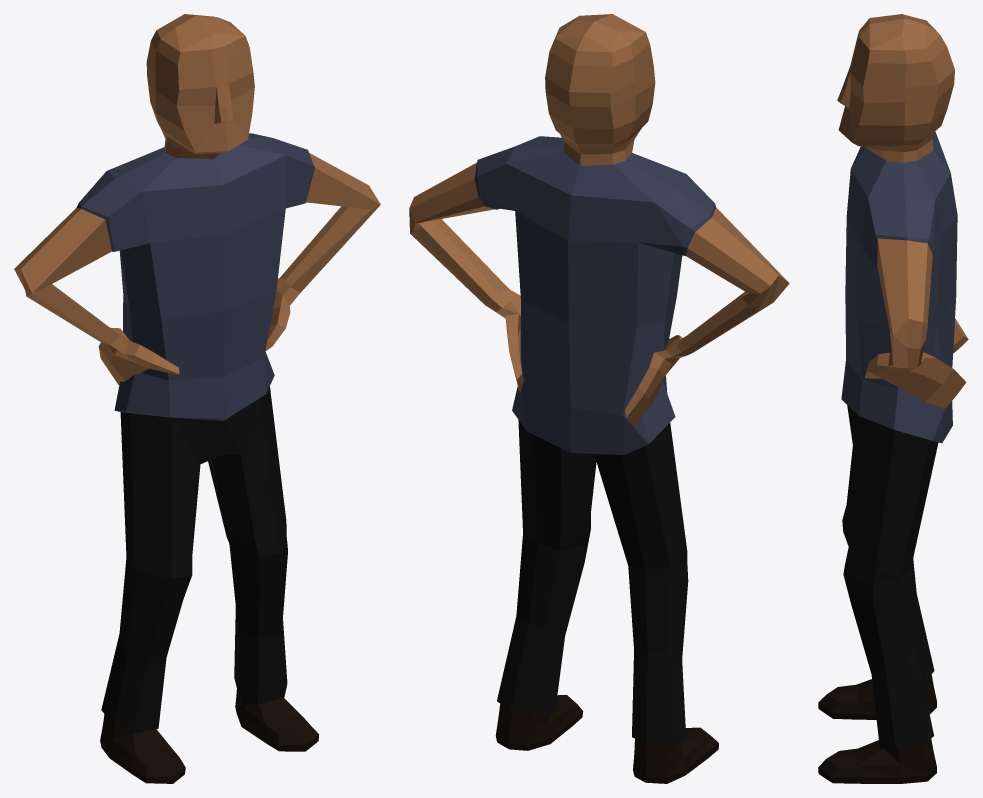
File: Male_Standing_Hips.obj
3 renders of one model, left to right at view 1: azimuth 30°, elevation 25°; view 2: azimuth 150°, elevation 25°; view 3: azimuth 270°, elevation 25°, orthographic.
Visible parts, largest first — view 1: Male_Standing_Hips_Human_CylinderMesh.008; view 2: Male_Standing_Hips_Human_CylinderMesh.008; view 3: Male_Standing_Hips_Human_CylinderMesh.008.
Boxes of the visible parts, bbox=[...] form: Male_Standing_Hips_Human_CylinderMesh.008: bbox=[14, 14, 380, 783]; Male_Standing_Hips_Human_CylinderMesh.008: bbox=[409, 14, 789, 783]; Male_Standing_Hips_Human_CylinderMesh.008: bbox=[818, 14, 968, 783].
Size of the model in its own units: 1.98 by 3.82 by 0.7207.
